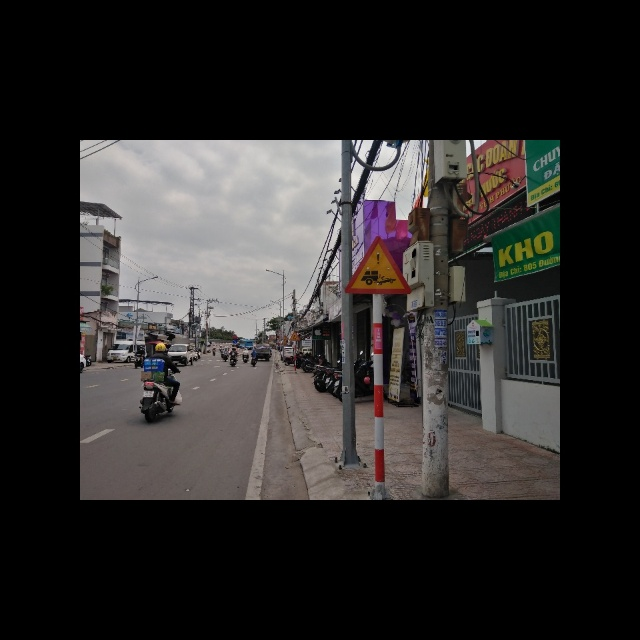Đoạn đường hay xảy ra tai nạn: (345, 236, 413, 293)
